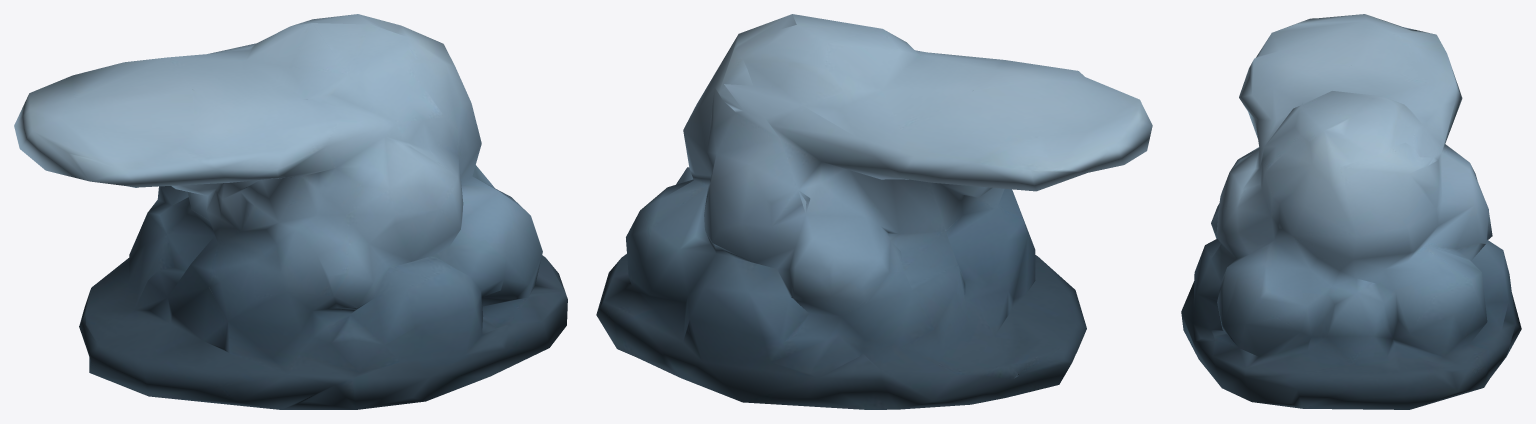
Rendered from clouds.glb.
The picture shows the model from 3 angles, left to right: view 1: azimuth 30°, elevation 25°; view 2: azimuth 150°, elevation 25°; view 3: azimuth 270°, elevation 25°; orthographic projection. The views are drawn at different scales.
Visible parts, largest first — view 1: tripo_node_ec040bc3-a101-48c2-b872-8b2fec878240; view 2: tripo_node_ec040bc3-a101-48c2-b872-8b2fec878240; view 3: tripo_node_ec040bc3-a101-48c2-b872-8b2fec878240.
Boxes of the visible parts, x1=… form: tripo_node_ec040bc3-a101-48c2-b872-8b2fec878240: x1=14, y1=14, x2=567, y2=409; tripo_node_ec040bc3-a101-48c2-b872-8b2fec878240: x1=596, y1=14, x2=1152, y2=409; tripo_node_ec040bc3-a101-48c2-b872-8b2fec878240: x1=1181, y1=14, x2=1521, y2=409.
Bounding box in the file's own units: 1 × 0.5629 × 0.7407.
1 material, 1 textured.
